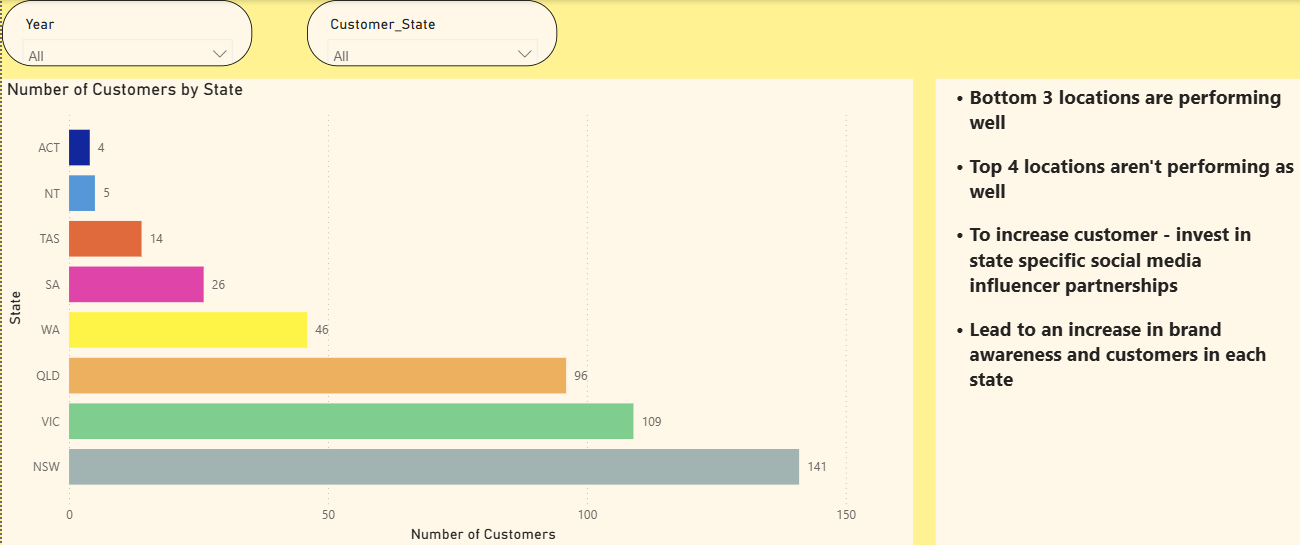

This screenshot's page, from the dashboard's own definition file:
{"tool":"powerbi","page":{"name":"Customers Locations * ","canvas":[1280,720],"ordinal":6},"visuals":[{"type":"clusteredBarChart","title":"Number of Customers by State","fields":{"Category":["Customers.Customer_State"],"Y":["Count(Customers.Customer_ID)"]},"box":[0,77.5,891.2,458.8],"z":0},{"type":"slicer","fields":{"Values":["Orders.Order_Date.Variation.Date Hierarchy.Year"]},"box":[0,0,245,65],"z":1000},{"type":"slicer","fields":{"Values":["Customers.Customer_State"]},"box":[298.8,0,245,65],"z":3000},{"type":"textbox","box":[913.8,77.5,357.5,458.8],"z":5000}]}

Visuals, with their boxes on the page's 1280x720 design canvas (x1, y1, x2, y2). These are canvas units, not pixel positions in the 1300x545 screenshot, which may show the page scaled, cropped or inside an application window:
"Number of Customers by State" clusteredBarChart: locate(0, 78, 891, 536)
slicer - Orders.Order_Date.Variation.Date Hierarchy.Year: locate(0, 0, 245, 65)
slicer - Customers.Customer_State: locate(299, 0, 544, 65)
textbox: locate(914, 78, 1271, 536)
